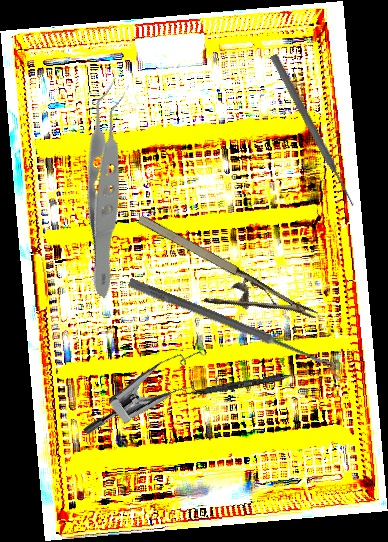Needle Holder: (120, 208, 319, 356)
Pusher: (268, 52, 358, 209)
Spatula Surgical: (175, 366, 316, 402)
Speculum: (81, 324, 231, 478)
Surgical Spoon: (127, 277, 337, 372)
Tissue Forceps: (9, 75, 211, 300)
